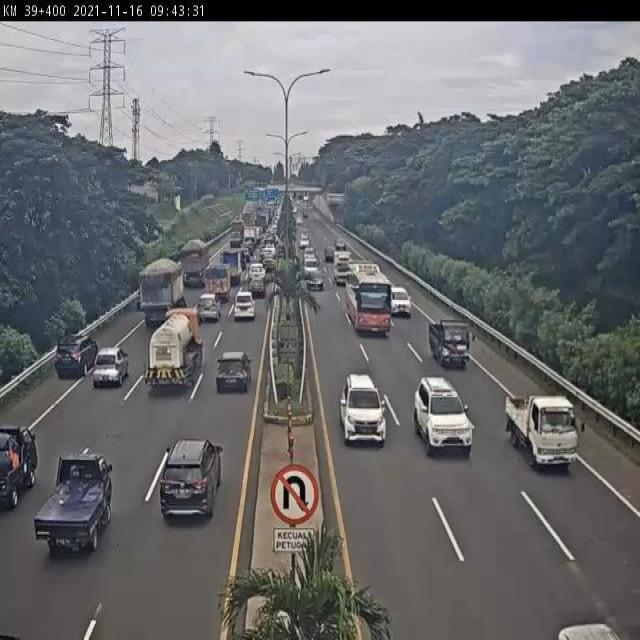big bus: (343, 260, 397, 337)
car: (32, 455, 117, 561), (160, 438, 224, 526), (413, 375, 475, 457), (342, 374, 387, 446), (53, 335, 100, 381), (216, 351, 254, 397), (90, 345, 129, 387), (389, 284, 412, 319), (233, 292, 256, 323), (196, 293, 219, 323), (249, 274, 267, 302)
small truck: (505, 393, 585, 472), (429, 317, 476, 368)
truck-l-: (137, 256, 187, 332), (180, 239, 211, 288)
truck-m-: (145, 305, 203, 395), (203, 264, 230, 301)
